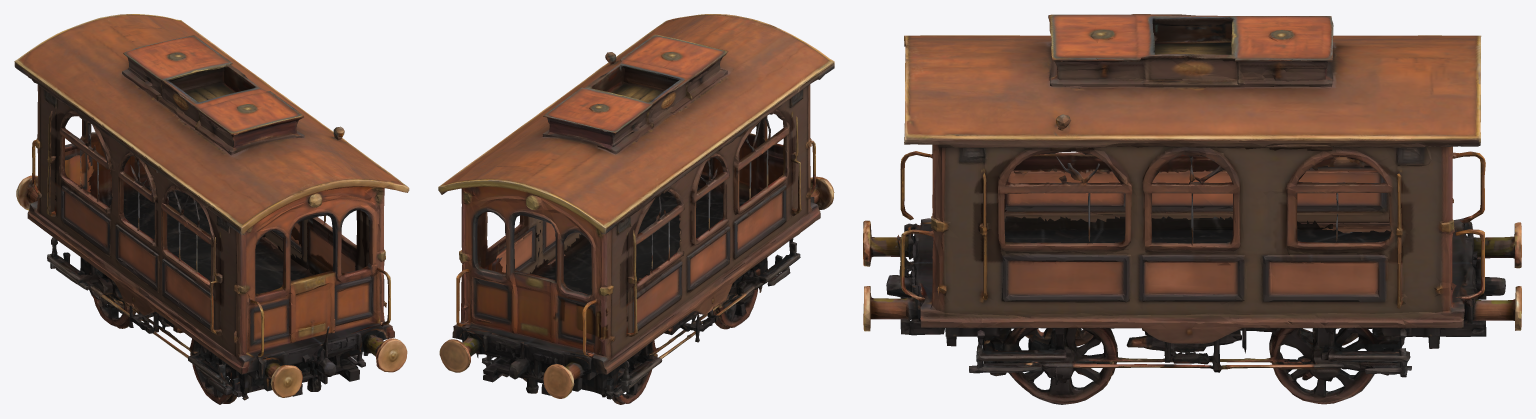
Rendered from steampunk_railway_wag_0616122503_texture.fbx.
3 views of the same model, side by side, from view 1: azimuth 30°, elevation 25°; view 2: azimuth 150°, elevation 25°; view 3: azimuth 270°, elevation 25° (orthographic). The views are drawn at different scales.
Parts seen in each view (by area): view 1: temp; view 2: temp; view 3: temp.
Boxes of the visible parts, <box> form: temp: <box>14,14,409,404</box>; temp: <box>438,14,834,404</box>; temp: <box>863,14,1521,404</box>.
Size of the model in its own units: 74.89 by 115 by 200.
Materials: 1 (1 with a texture image).
